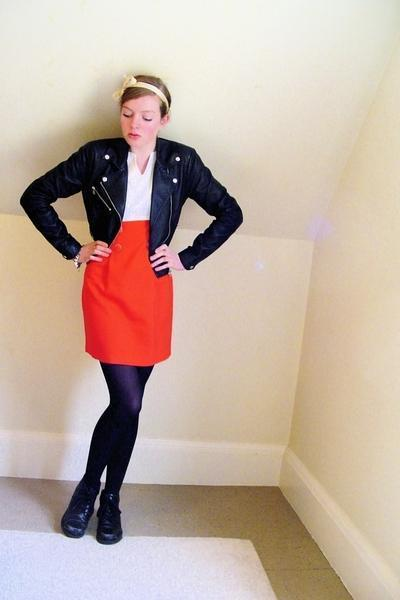jacket: (20, 136, 242, 277)
shirt: (122, 164, 151, 220)
shoe: (68, 476, 122, 544)
skirt: (82, 220, 172, 365)
